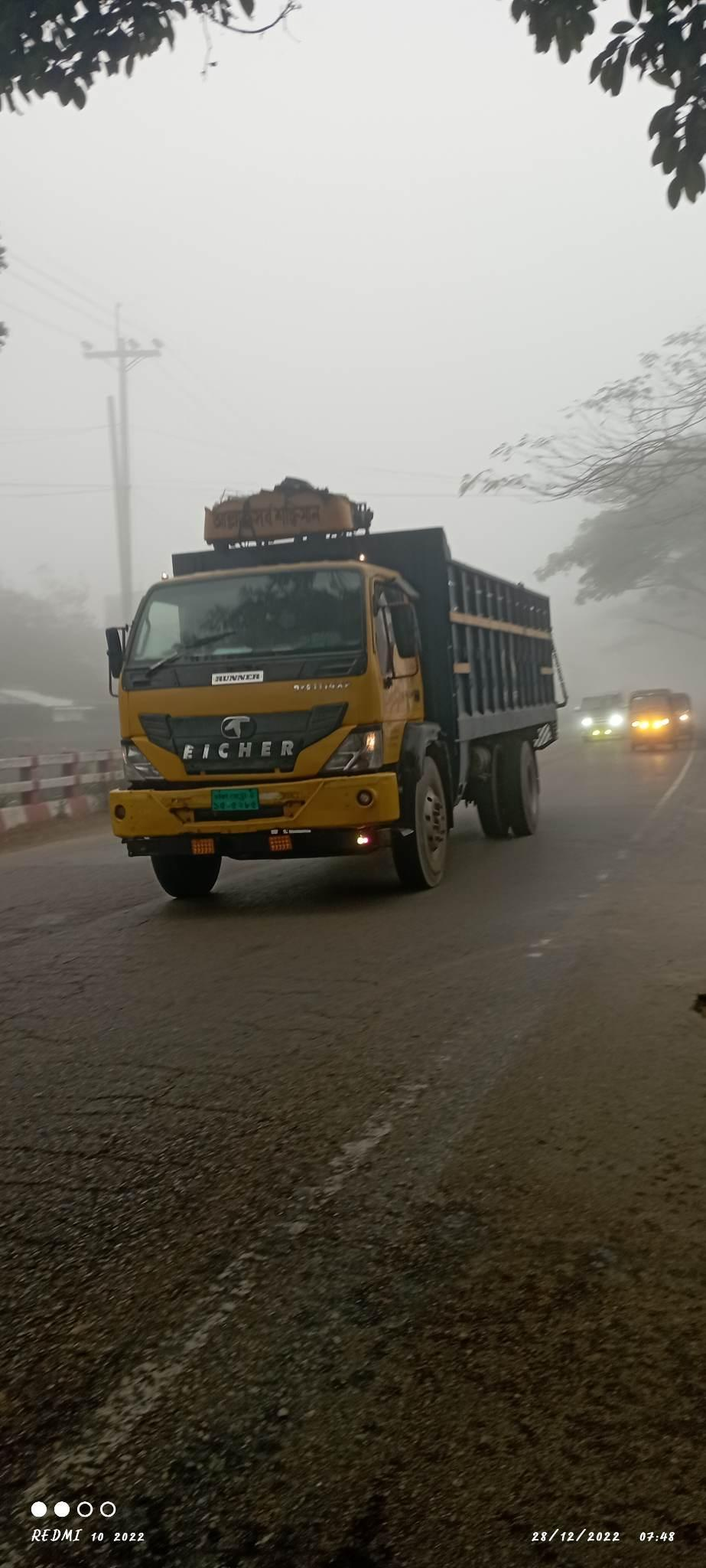Truck: (74, 453, 581, 930)
